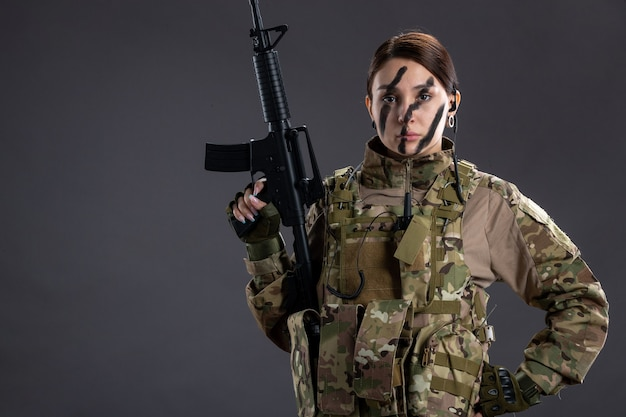gun: (201, 0, 326, 305)
